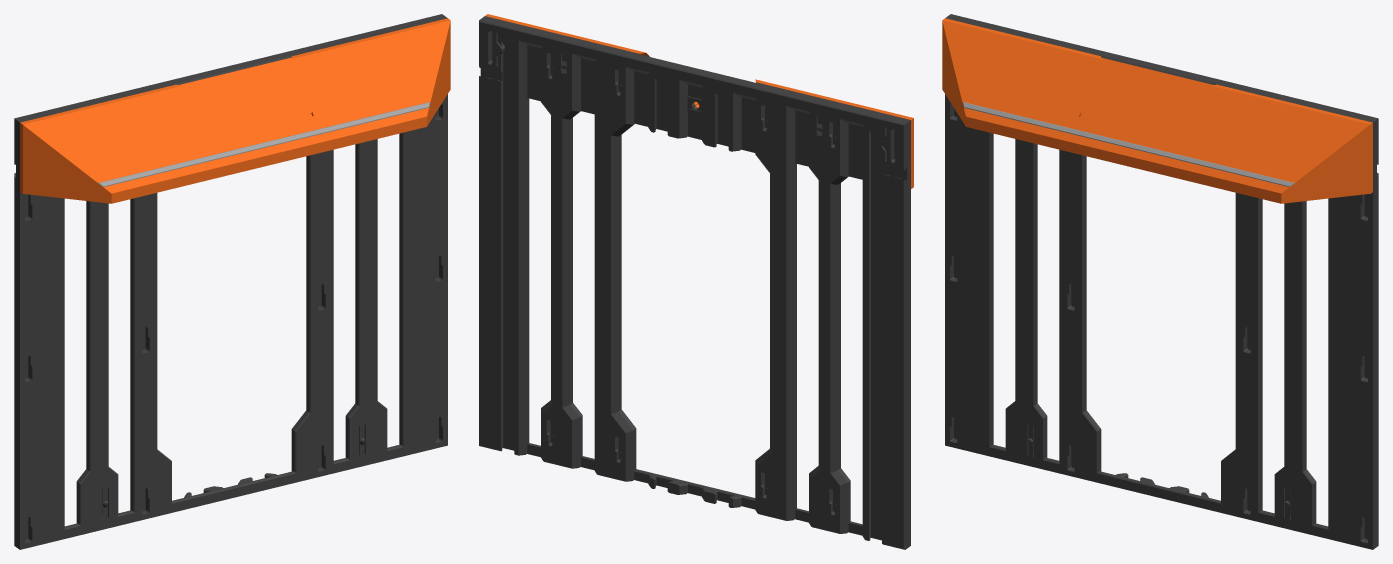
The model's file is Faceplate_ClassicPro_2W-3H.lib.glb.
3 renders of one model, left to right at view 1: azimuth 30°, elevation 25°; view 2: azimuth 150°, elevation 25°; view 3: azimuth 330°, elevation 25°, orthographic.
Visible parts, largest first — view 1: Faceplate_ClassicPro_2W-3H; view 2: Faceplate_ClassicPro_2W-3H; view 3: Faceplate_ClassicPro_2W-3H.
Boxes of the visible parts, x1,y1,x2,y2 form: Faceplate_ClassicPro_2W-3H: (14, 14, 450, 549); Faceplate_ClassicPro_2W-3H: (479, 14, 913, 549); Faceplate_ClassicPro_2W-3H: (942, 14, 1378, 549).
Size of the model in its own units: 175 by 167 by 29.5.
